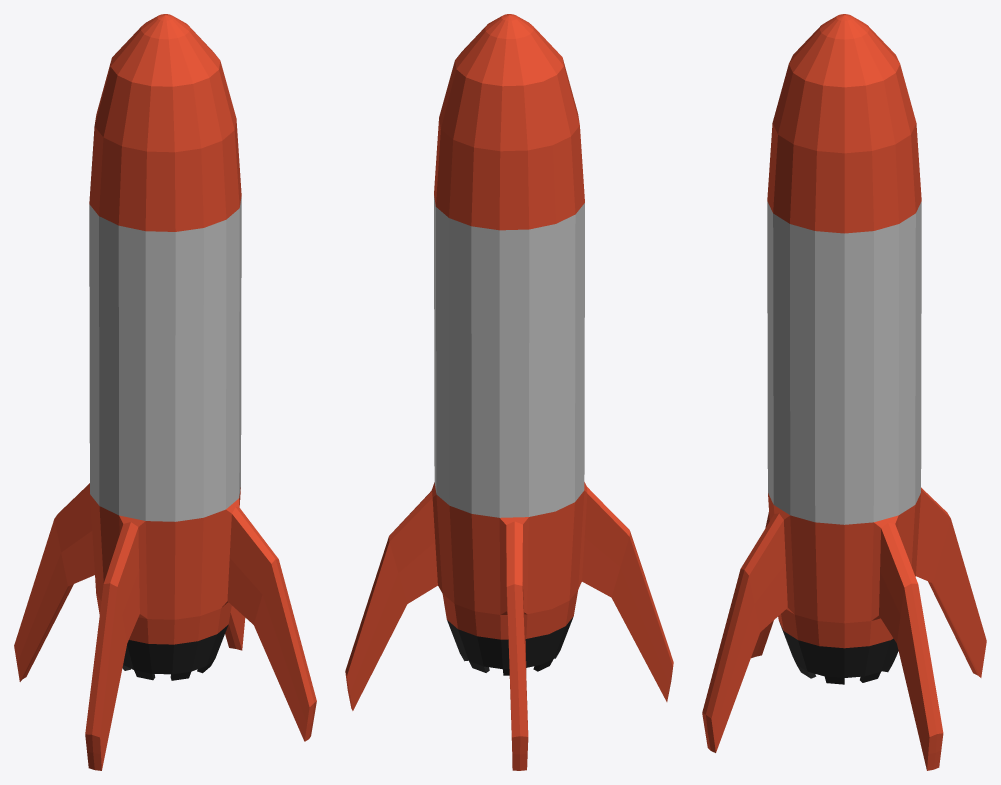
Rendered from Rocket.fbx.
The picture shows the model from 3 angles, left to right: view 1: azimuth 30°, elevation 25°; view 2: azimuth 150°, elevation 25°; view 3: azimuth 270°, elevation 25°; orthographic projection.
Parts seen in each view (by area): view 1: 柱体; view 2: 柱体; view 3: 柱体.
Boxes of the visible parts, bbox=[...] form: 柱体: bbox=[14, 14, 316, 770]; 柱体: bbox=[345, 14, 673, 770]; 柱体: bbox=[702, 14, 986, 770].
Bounding box in the file's own units: 222 × 602 × 222.
